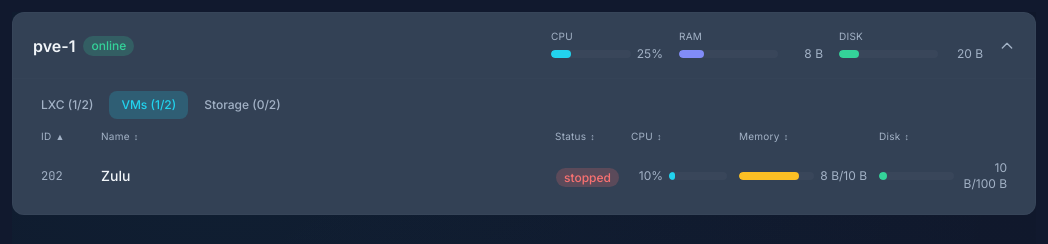
NodeCard search behavior › respects a user's tab click during an active query and shows an empty-in-tab state
Expected: the text "Zulu" is shown, x1=101 y1=167 x2=130 y2=184
Note: A manual click on Storage is respected even though it has no matches.
Click the tab "Storage (0/2)".
click(242, 105)  # box x1=192 y1=91 x2=293 y2=119
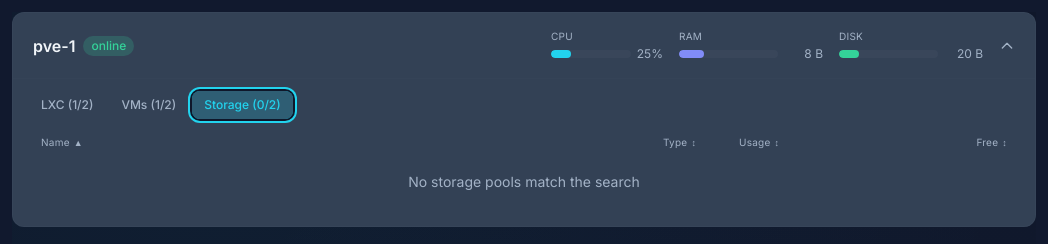
Now the text "Zulu" is gone
Now the text "No storage pools match the search" is shown, box x1=408 y1=173 x2=640 y2=190
Note: Clicking back to VMs restores the matching row.
Click the tab "VMs (1/2)".
click(149, 105)  # box x1=109 y1=91 x2=188 y2=119
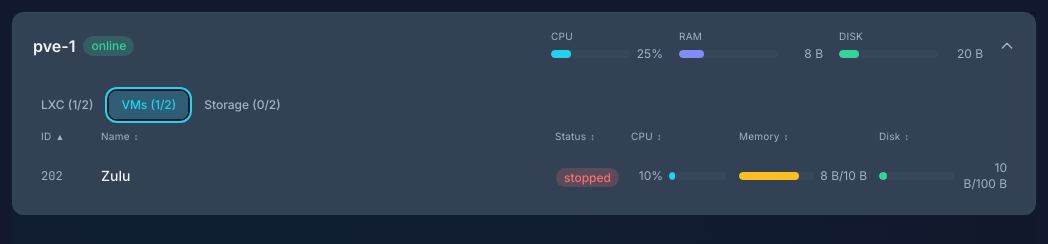
Now the text "Zulu" is shown, box x1=101 y1=167 x2=130 y2=184
